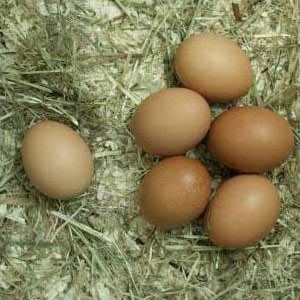egg: (21, 121, 95, 201), (204, 175, 281, 250), (130, 88, 212, 157), (209, 107, 294, 173), (173, 34, 254, 103), (138, 158, 211, 229)
